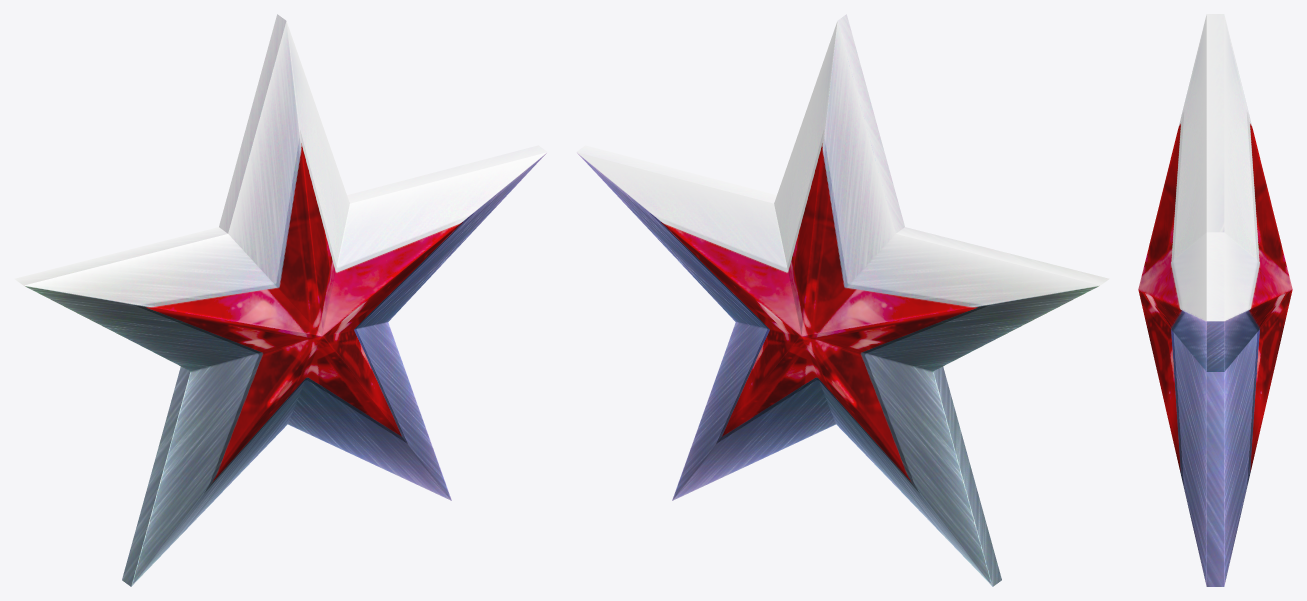
The model's file is Star_Platinum.glb.
The picture shows the model from 3 angles, left to right: view 1: azimuth 30°, elevation 25°; view 2: azimuth 150°, elevation 25°; view 3: azimuth 270°, elevation 25°; orthographic projection. The views are drawn at different scales.
Visible parts, largest first — view 1: Star; view 2: Star; view 3: Star.
Part boxes in pixels (box(x1,y1,x2,y2)): Star: box(14, 14, 547, 586); Star: box(576, 14, 1109, 586); Star: box(1138, 14, 1292, 586).
Bounding box in the file's own units: 64.2 × 61.81 × 17.18.
Materials: 1 (1 with a texture image).
